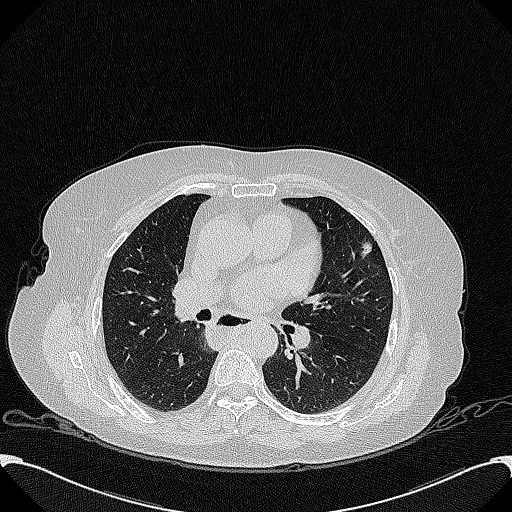nodule: (360, 240, 372, 258)
